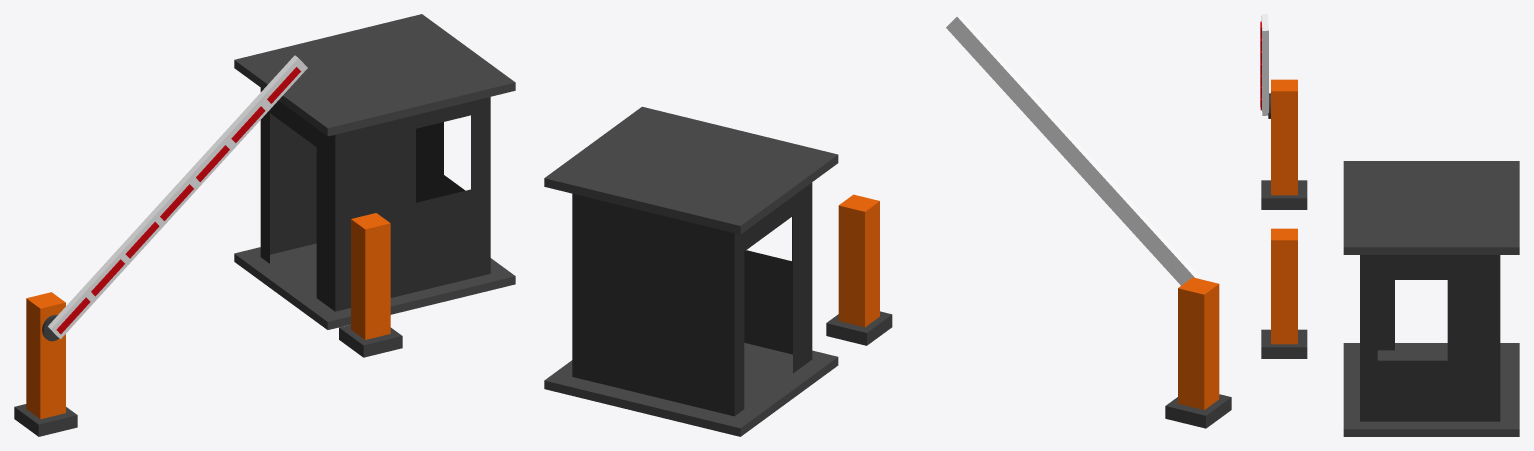
Rendered from frontgate.glb.
3 renders of one model, left to right at view 1: azimuth 30°, elevation 25°; view 2: azimuth 150°, elevation 25°; view 3: azimuth 270°, elevation 25°, orthographic. The views are drawn at different scales.
Parts seen in each view (by area): view 1: Cube.006, Cube.007, Cube.005, Cube.004, Cube.001, Cube.002, Cube.003, Cube; view 2: Cube.006, Cube.007, Cube.005, Cube.004, Cube.001, Cube.002, Cube.003, Cube; view 3: Cube.006, Cube.007, Cube.005, Cube.002, Cube.001, Cube, Cube.003, Cube.004.
Boxes of the visible parts, bbox=[...] form: Cube.006: bbox=[260, 88, 490, 311]; Cube.007: bbox=[234, 14, 515, 136]; Cube.005: bbox=[234, 243, 515, 329]; Cube.004: bbox=[48, 55, 307, 338]; Cube.001: bbox=[351, 213, 390, 339]; Cube.002: bbox=[26, 292, 65, 419]; Cube.003: bbox=[339, 324, 402, 357]; Cube: bbox=[14, 404, 77, 436]; Cube.006: bbox=[572, 182, 812, 416]; Cube.007: bbox=[544, 106, 838, 234]; Cube.005: bbox=[544, 343, 838, 436]; Cube.004: bbox=[946, 14, 1201, 285]; Cube.001: bbox=[838, 194, 879, 327]; Cube.002: bbox=[1178, 277, 1219, 409]; Cube.003: bbox=[826, 311, 892, 345]; Cube: bbox=[1165, 394, 1231, 428]; Cube.006: bbox=[1360, 255, 1500, 421]; Cube.007: bbox=[1343, 161, 1519, 254]; Cube.005: bbox=[1343, 343, 1519, 436]; Cube.002: bbox=[1271, 79, 1297, 195]; Cube.001: bbox=[1271, 228, 1297, 344]; Cube: bbox=[1261, 180, 1307, 209]; Cube.003: bbox=[1261, 329, 1307, 358]; Cube.004: bbox=[1261, 14, 1268, 115].
Size of the model in its own units: 14.4 by 8.52 by 6.61.
